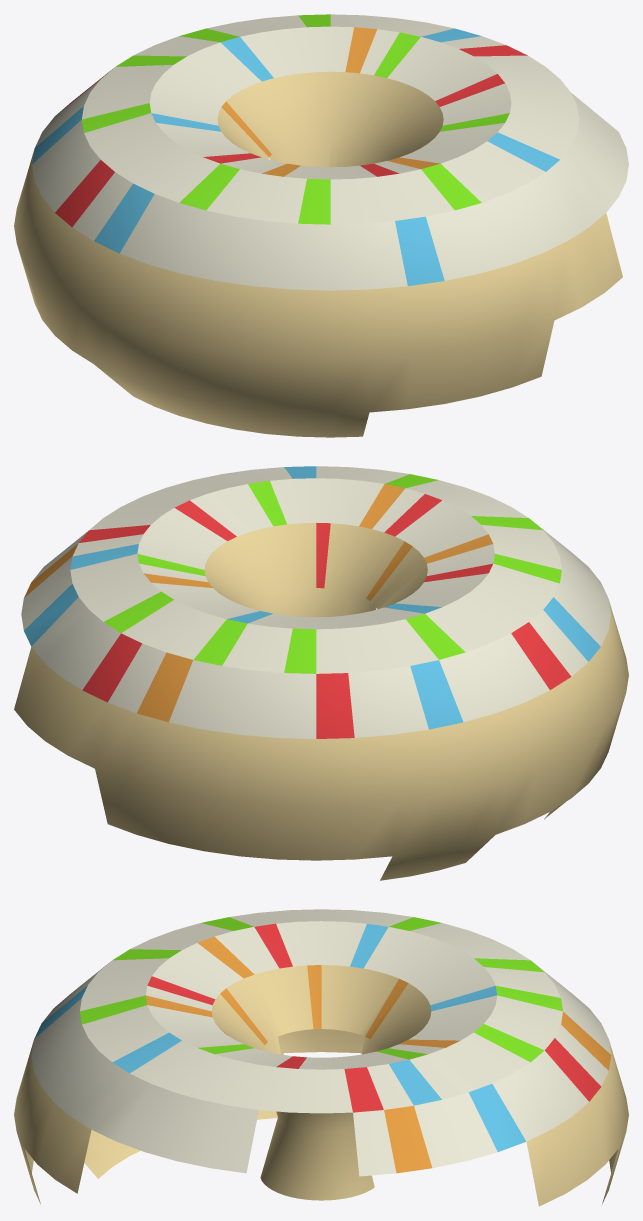
Rendered from only_donut.fbx.
3 renders of one model, top to bottom at view 1: azimuth 30°, elevation 25°; view 2: azimuth 150°, elevation 25°; view 3: azimuth 270°, elevation 25°, orthographic. The views are drawn at different scales.
Parts seen in each view (by area): view 1: donut; view 2: donut; view 3: donut.
Boxes of the visible parts, x1,y1,x2,y2 form: donut: (14,14,628,437); donut: (14,466,628,880); donut: (14,909,628,1206).
Bounding box in the file's own units: 162 × 67.18 × 168.
